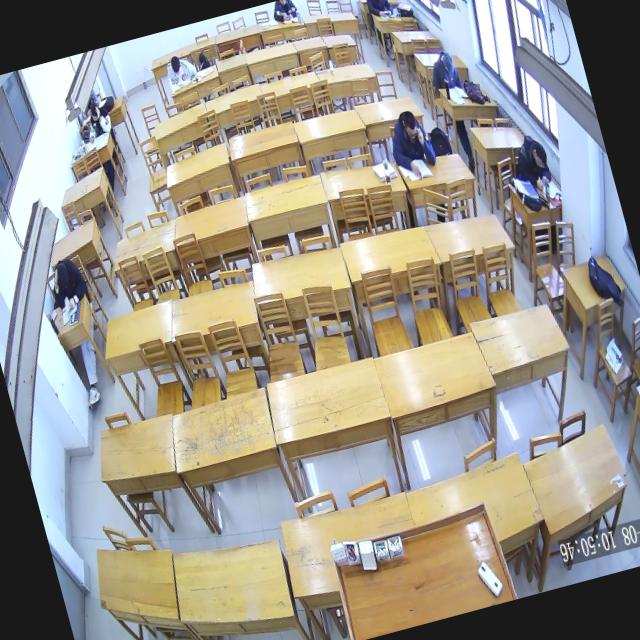bow: (160, 48, 200, 88)
down: (399, 108, 422, 144), (528, 138, 550, 172), (53, 261, 75, 292), (439, 48, 458, 78), (167, 52, 184, 78), (86, 100, 102, 124)
sit: (382, 104, 442, 185), (505, 129, 557, 197), (44, 252, 92, 314), (424, 44, 464, 94), (78, 96, 116, 146), (360, 0, 394, 22)
